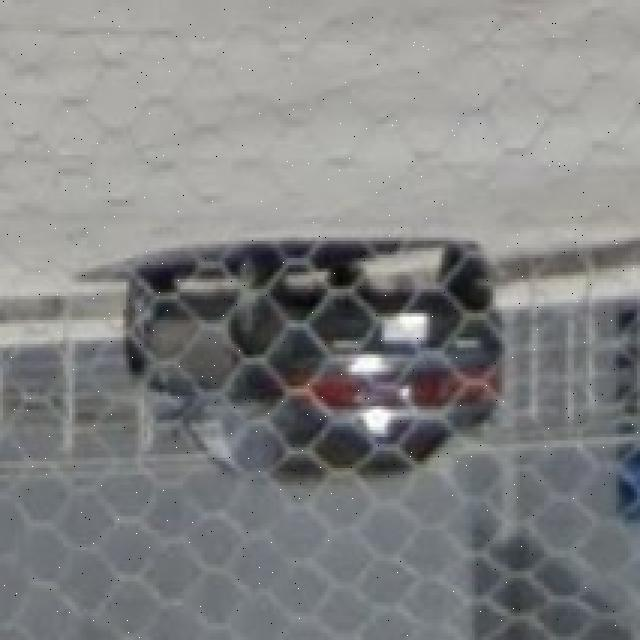car: (119, 248, 505, 491)
